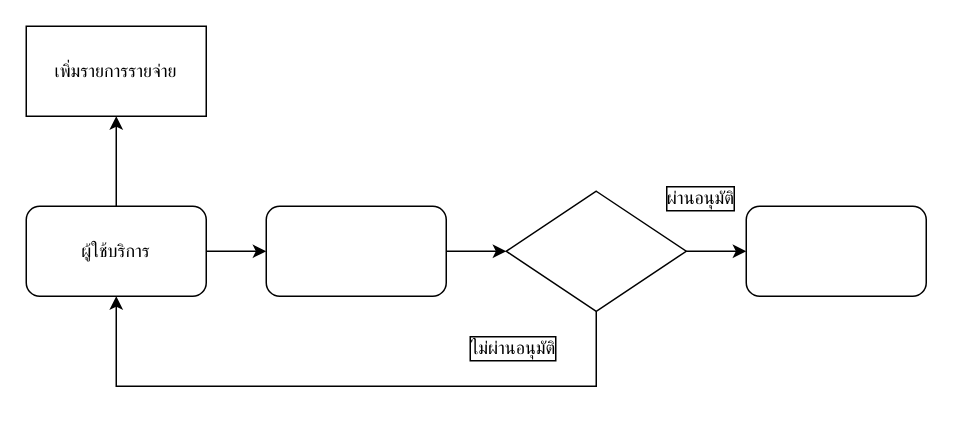
Image size: 953x425. Some labels were removed from this diagram. The shapes that lost their labels are listed below. From the top down, each one's centre as x and y in pixels, then its label:
[355,250]: ผู้อนุมัติ ตามตำแหน่ง
[835,250]: จบการดำเนินการ
